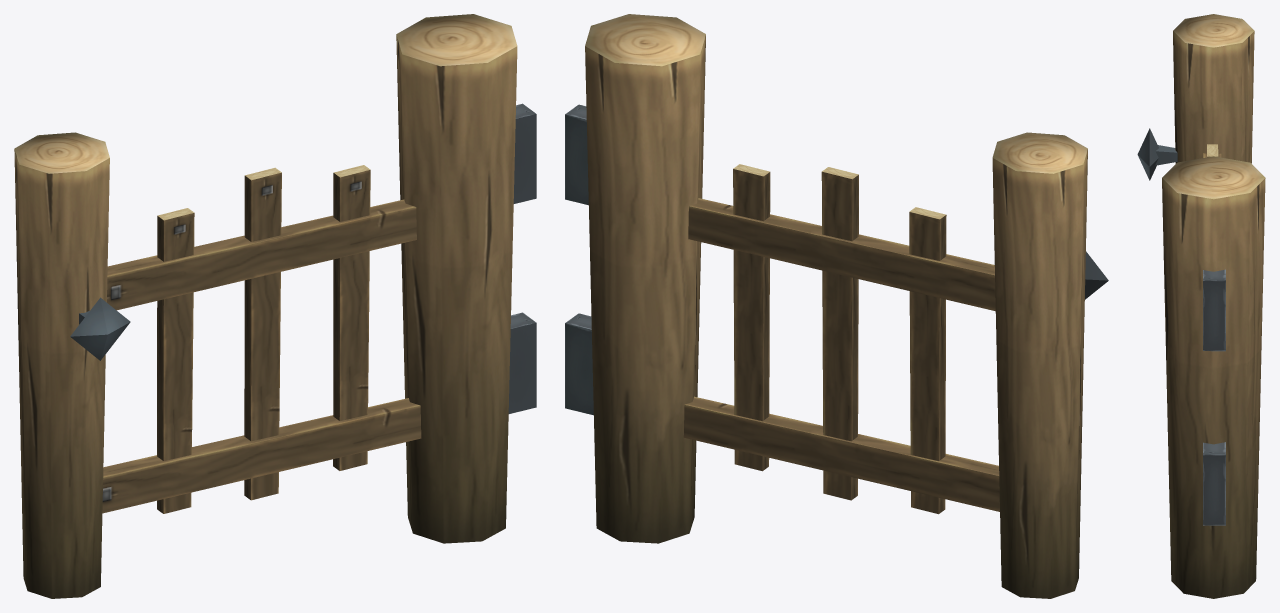
The model's file is gates_10_left.fbx.
3 renders of one model, left to right at view 1: azimuth 30°, elevation 25°; view 2: azimuth 150°, elevation 25°; view 3: azimuth 270°, elevation 25°, orthographic. The views are drawn at different scales.
Parts seen in each view (by area): view 1: gates_10_left:Mesh; view 2: gates_10_left:Mesh; view 3: gates_10_left:Mesh.
Boxes of the visible parts, <box> form: gates_10_left:Mesh: <box>14,14,536,598</box>; gates_10_left:Mesh: <box>565,14,1108,598</box>; gates_10_left:Mesh: <box>1137,14,1265,598</box>.
Size of the model in its own units: 3.71 by 3.35 by 0.9628.
